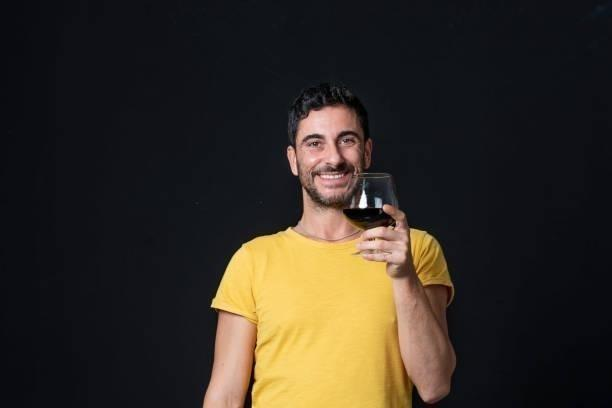glass-wine: (343, 170, 398, 261)
